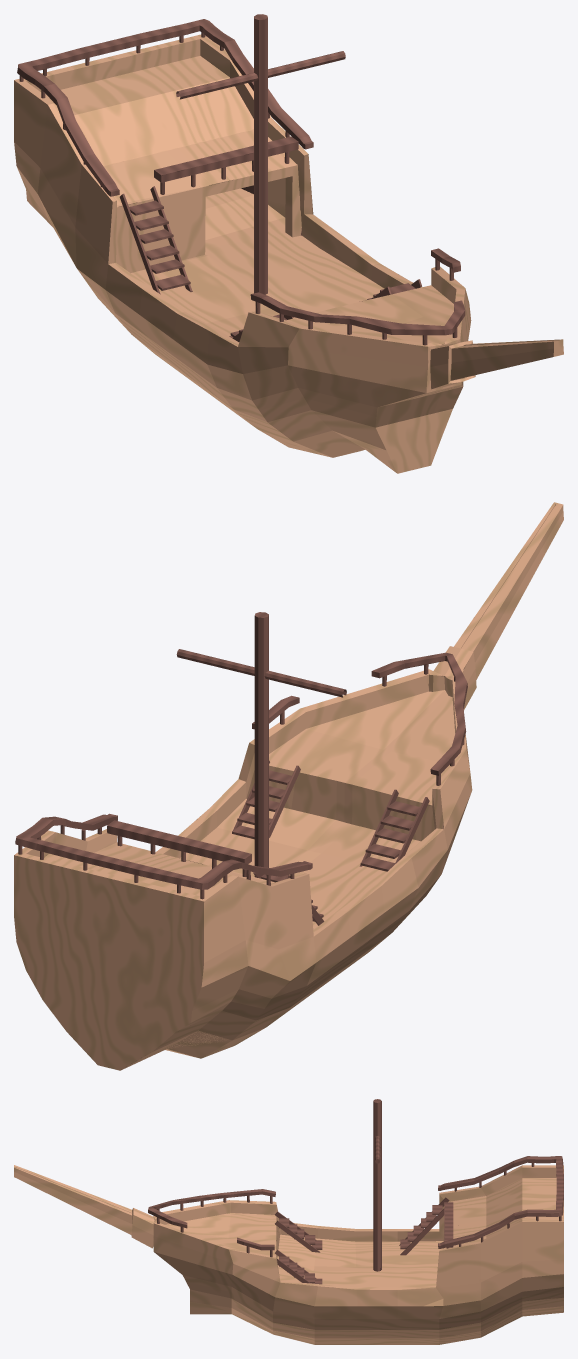
The model's file is Ship4.2.glb.
3 views of the same model, one above another, from view 1: azimuth 30°, elevation 25°; view 2: azimuth 150°, elevation 25°; view 3: azimuth 270°, elevation 25° (orthographic). The views are drawn at different scales.
Visible parts, largest first — view 1: body1; view 2: body1; view 3: body1.
Part boxes in pixels (left/top/right/bottom): body1: left=14, top=14, right=563, bottom=473; body1: left=14, top=502, right=563, bottom=1070; body1: left=14, top=1099, right=563, bottom=1344.
Size of what is drawn, in the model's own units: 10.06 by 17.59 by 37.02.
2 materials, 2 textured.
